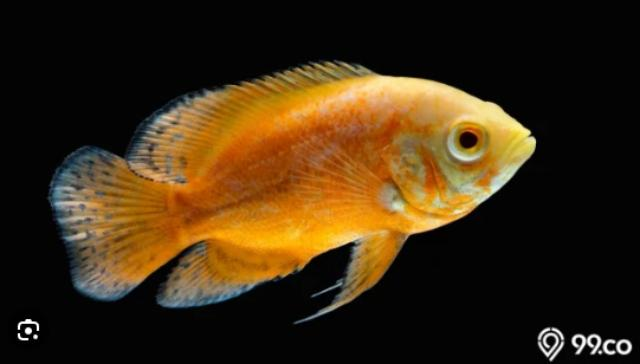Mulut: (498, 111, 548, 174)
Sirip Anal: (156, 238, 300, 318)
Sirip Dada: (278, 131, 392, 246)
Sirip Ekor: (42, 136, 168, 306)
Sirip Perut: (296, 228, 412, 328)
Sirip Punggung: (128, 51, 372, 192)
